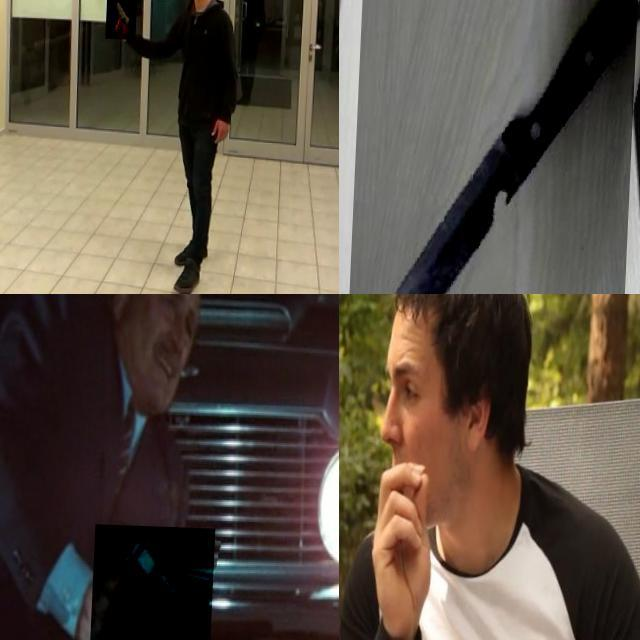-: (345, 0, 640, 294), (339, 570, 371, 640)
gun-knife-thesis - v11 Yolov5 augmented: (92, 522, 218, 640), (108, 0, 140, 37)
